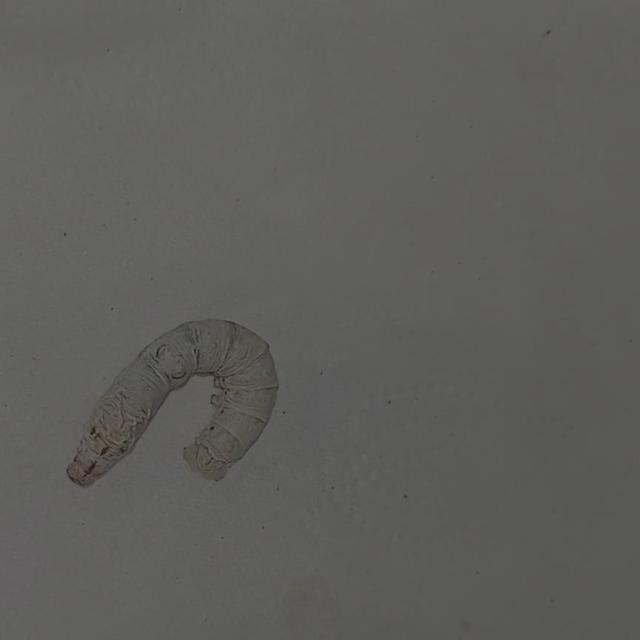Healthy: (55, 284, 345, 550)
